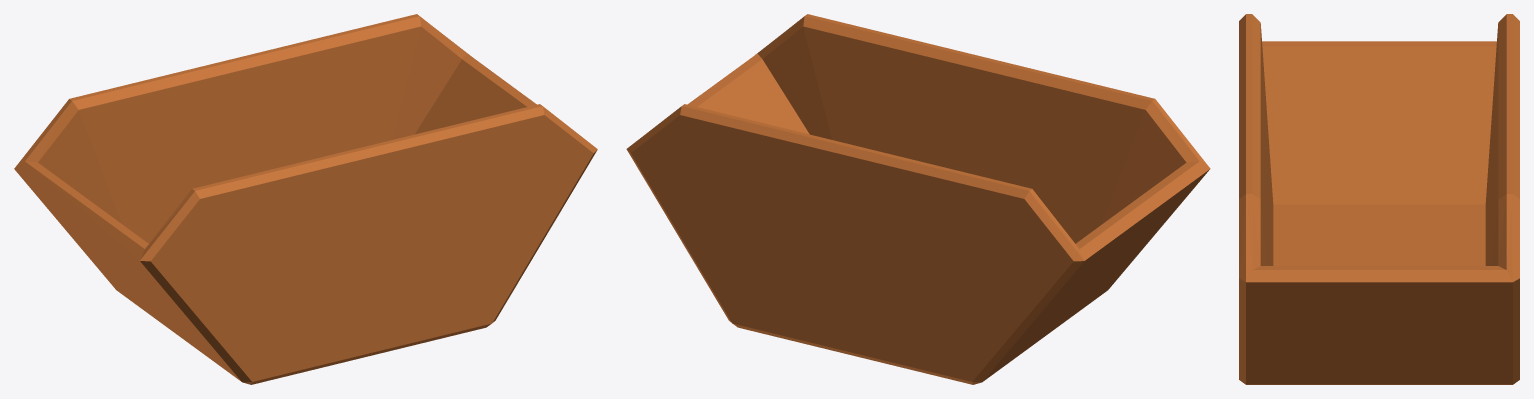
Rendered from skip.glb.
3 renders of one model, left to right at view 1: azimuth 30°, elevation 25°; view 2: azimuth 150°, elevation 25°; view 3: azimuth 270°, elevation 25°, orthographic. The views are drawn at different scales.
Parts seen in each view (by area): view 1: Skip; view 2: Skip; view 3: Skip.
Part boxes in pixels (x1,y1,x2,y2): Skip: (14, 14, 597, 384); Skip: (626, 14, 1210, 384); Skip: (1239, 14, 1519, 384).
Bounding box in the file's own units: 0.42 × 0.1819 × 0.2103.
